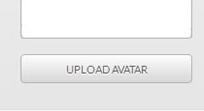button: (20, 54, 194, 84)
